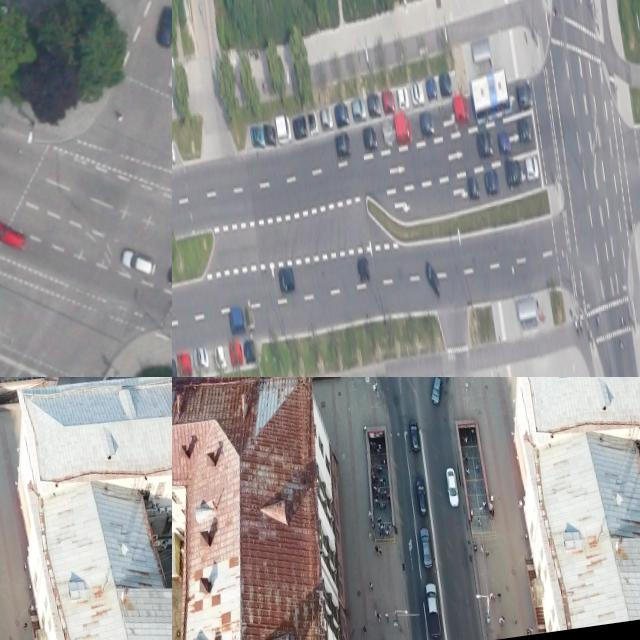UAI: (120, 243, 160, 282), (0, 214, 30, 256), (424, 582, 443, 637), (151, 3, 172, 50), (424, 258, 442, 299), (394, 111, 413, 144), (504, 157, 523, 189), (445, 467, 460, 507), (516, 79, 534, 112), (453, 94, 471, 127), (420, 527, 434, 569), (476, 130, 495, 160), (278, 266, 297, 295), (517, 114, 533, 147), (229, 307, 247, 336), (415, 477, 429, 514), (276, 114, 293, 144), (428, 377, 445, 406), (408, 419, 422, 453), (484, 169, 501, 196), (335, 131, 352, 158), (193, 345, 210, 372), (292, 115, 309, 141), (525, 154, 541, 181), (420, 110, 436, 137), (362, 126, 378, 153), (177, 351, 193, 377), (334, 101, 350, 127), (351, 97, 367, 123), (466, 175, 481, 202), (411, 79, 426, 106), (214, 342, 228, 370), (367, 94, 383, 118), (498, 130, 512, 157), (382, 88, 396, 115), (439, 71, 453, 98), (357, 256, 371, 283), (229, 341, 244, 366), (251, 124, 266, 149), (397, 84, 410, 111), (243, 338, 257, 363), (263, 122, 277, 147), (320, 106, 334, 130), (383, 122, 396, 147), (426, 76, 439, 101), (308, 110, 320, 135), (246, 308, 256, 330), (172, 356, 178, 377), (172, 139, 176, 164)
car: (470, 67, 513, 125)
